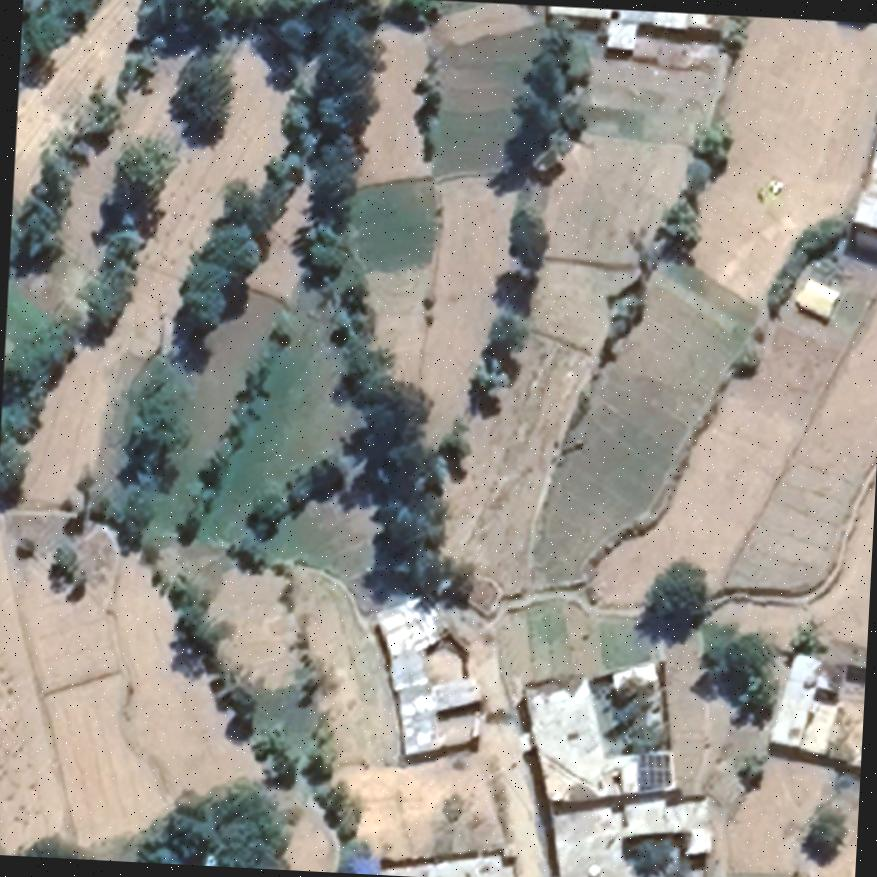Solarpanel: (634, 750, 672, 788)
